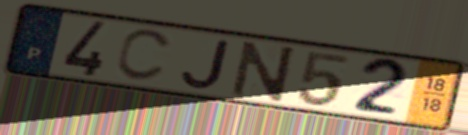2: (346, 57, 416, 120)
4: (60, 19, 106, 79)
5: (295, 48, 353, 108)
C: (112, 28, 176, 84)
J: (178, 37, 235, 92)
N: (228, 39, 299, 104)
